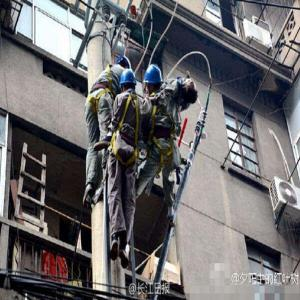blue: (144, 64, 164, 97), (121, 68, 138, 94)
